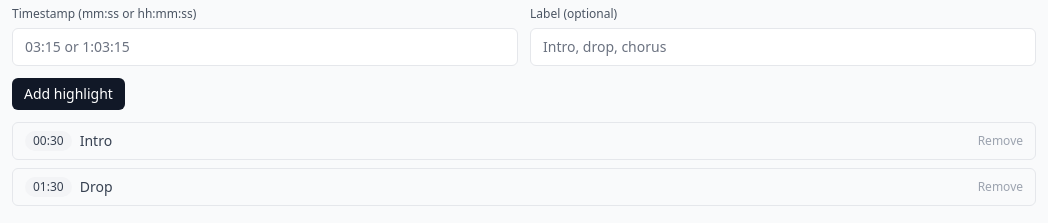
HighlightEditor › removes a highlight
The width and height of the screenshot is (1048, 223).
Click the button with aria-label "Remove highlight 00:30": x=1000, y=141 [978, 133, 1023, 149]
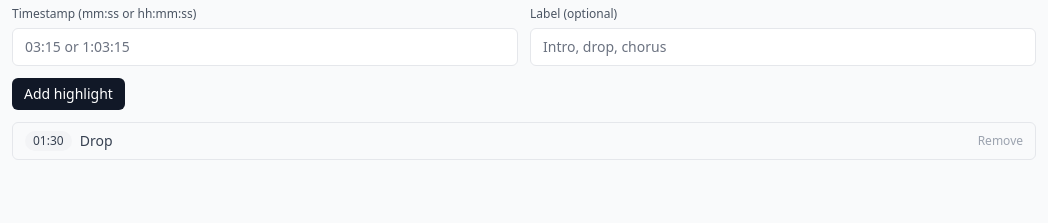
expect the text "00:30" is gone: met
